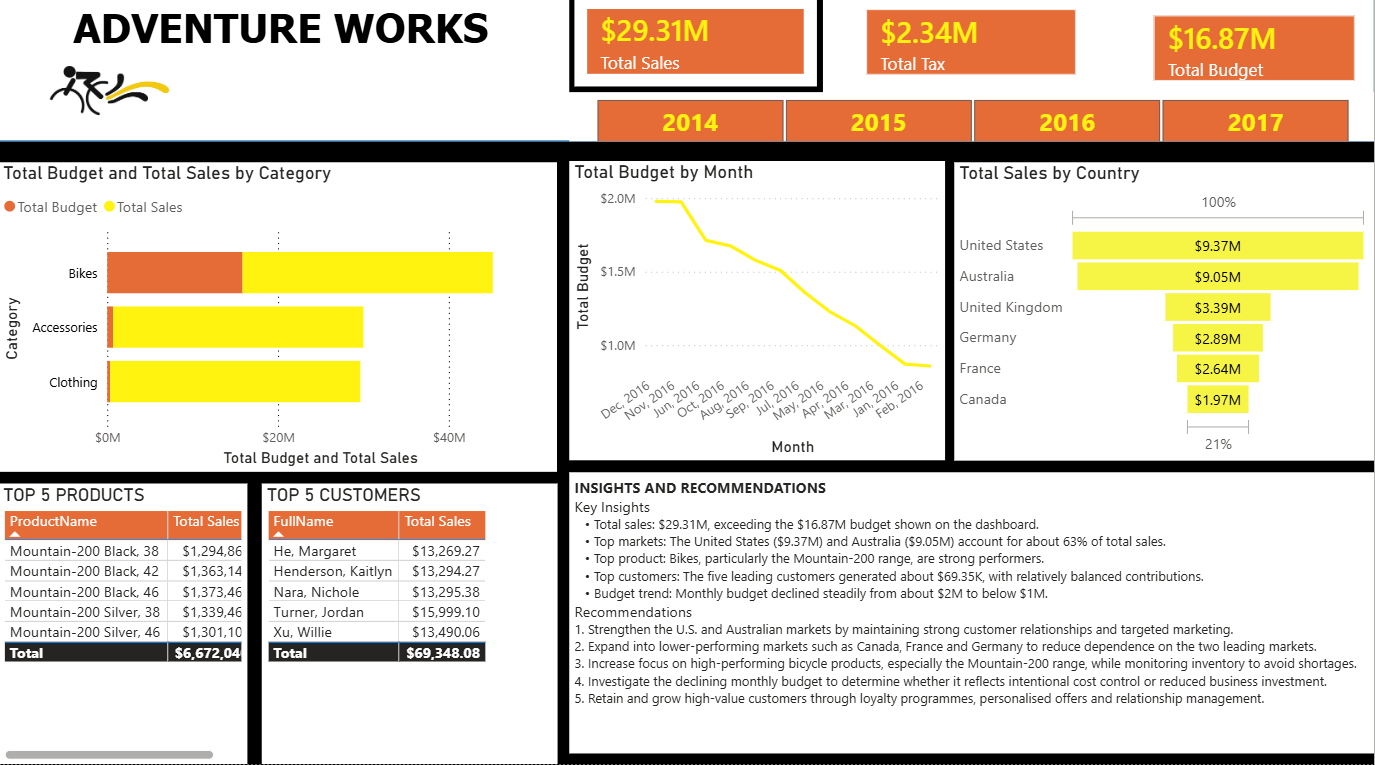

This screenshot's page, from the dashboard's own definition file:
{"tool":"powerbi","page":{"name":"Page 1","canvas":[1280,720],"ordinal":0},"visuals":[{"type":"shape","box":[0,0,1280,139.9],"z":0},{"type":"textbox","box":[15.7,6,495.8,121.9],"z":1000},{"type":"cardVisual","fields":{"Data":["Sales.Total Sales"]},"box":[531,0,236,94.6],"z":2000},{"type":"cardVisual","fields":{"Data":["Sales.Total Tax"]},"box":[790.4,0,229.3,95.7],"z":3000},{"type":"cardVisual","fields":{"Data":["Budget.Total Budget"]},"box":[1058,6,222,95.3],"z":4000},{"type":"image","box":[0,70,202.7,47.1],"z":5000},{"type":"slicer","fields":{"Values":["Calendar.Year"]},"box":[530.8,94.1,749.2,45.8],"z":6000},{"type":"barChart","fields":{"Y":["Budget.Total Budget","Sales.Total Sales"],"Category":["Budget.Category"]},"box":[0,159.3,520,288.3],"z":7000},{"type":"lineChart","fields":{"Y":["Budget.Total Budget"],"Category":["Budget.Month"]},"box":[530.8,158,349.9,278.7],"z":8000},{"type":"tableEx","title":"TOP 5 PRODUCTS","fields":{"Values":["Product.ProductName","Sales.Total Sales"]},"box":[0,458.4,231.6,261.8],"z":9000},{"type":"tableEx","title":"TOP 5 CUSTOMERS","fields":{"Values":["Customer.FullName","Sales.Total Sales"]},"box":[244.9,458.4,275.1,261.8],"z":10000},{"type":"funnel","fields":{"Category":["Territories.Country"],"Y":["Sales.Total Sales"]},"box":[889.1,159.3,390.9,277.5],"z":11000},{"type":"textbox","box":[530.8,447.6,749.2,261.8],"z":12000}]}

Visuals, with their boxes in screenshot pixels (x1, y1, x2, y2), scaled from the page's 1280x720 canvas onto the 1375x765 screenshot:
shape: 0/0/1374/149
textbox: 17/6/549/136
cardVisual - Sales.Total Sales: 570/0/824/101
cardVisual - Sales.Total Tax: 849/0/1095/102
cardVisual - Budget.Total Budget: 1137/6/1374/108
image: 0/74/218/124
slicer - Calendar.Year: 570/100/1374/149
barChart - Budget.Total Budget x Sales.Total Sales: 0/169/559/476
lineChart - Budget.Total Budget x Budget.Month: 570/168/946/464
"TOP 5 PRODUCTS" tableEx: 0/487/249/764
"TOP 5 CUSTOMERS" tableEx: 263/487/559/764
funnel - Territories.Country x Sales.Total Sales: 955/169/1374/464
textbox: 570/476/1374/754
